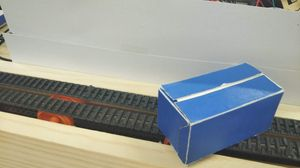box3: (157, 61, 284, 165)
